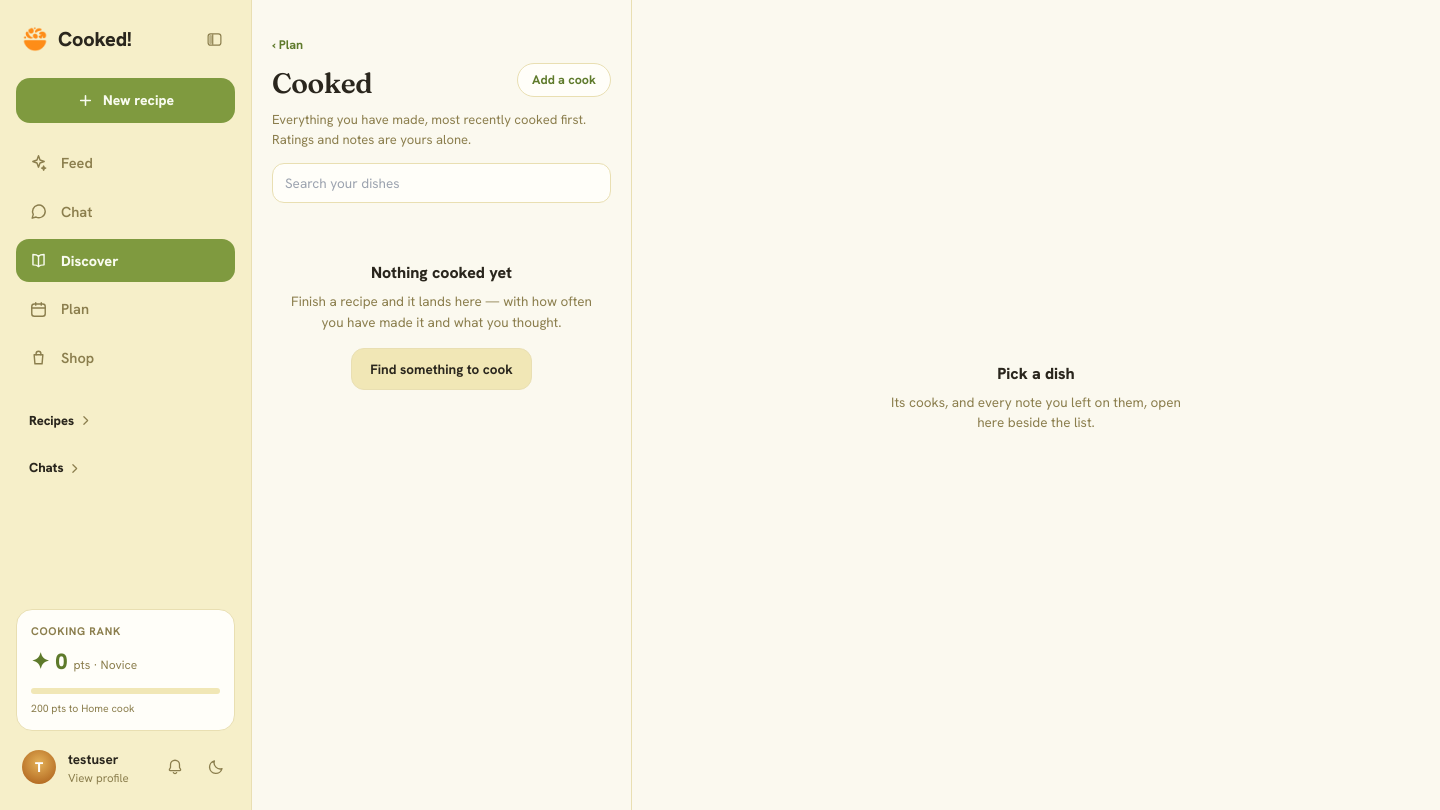
Test: Add a cook › says so afterwards, because a backdated cook may land far down the list
What coordinates should you click on to do the following:
click the button "Add a cook"
I would click on:
 (564, 80)
Its box is [517,63,611,97].
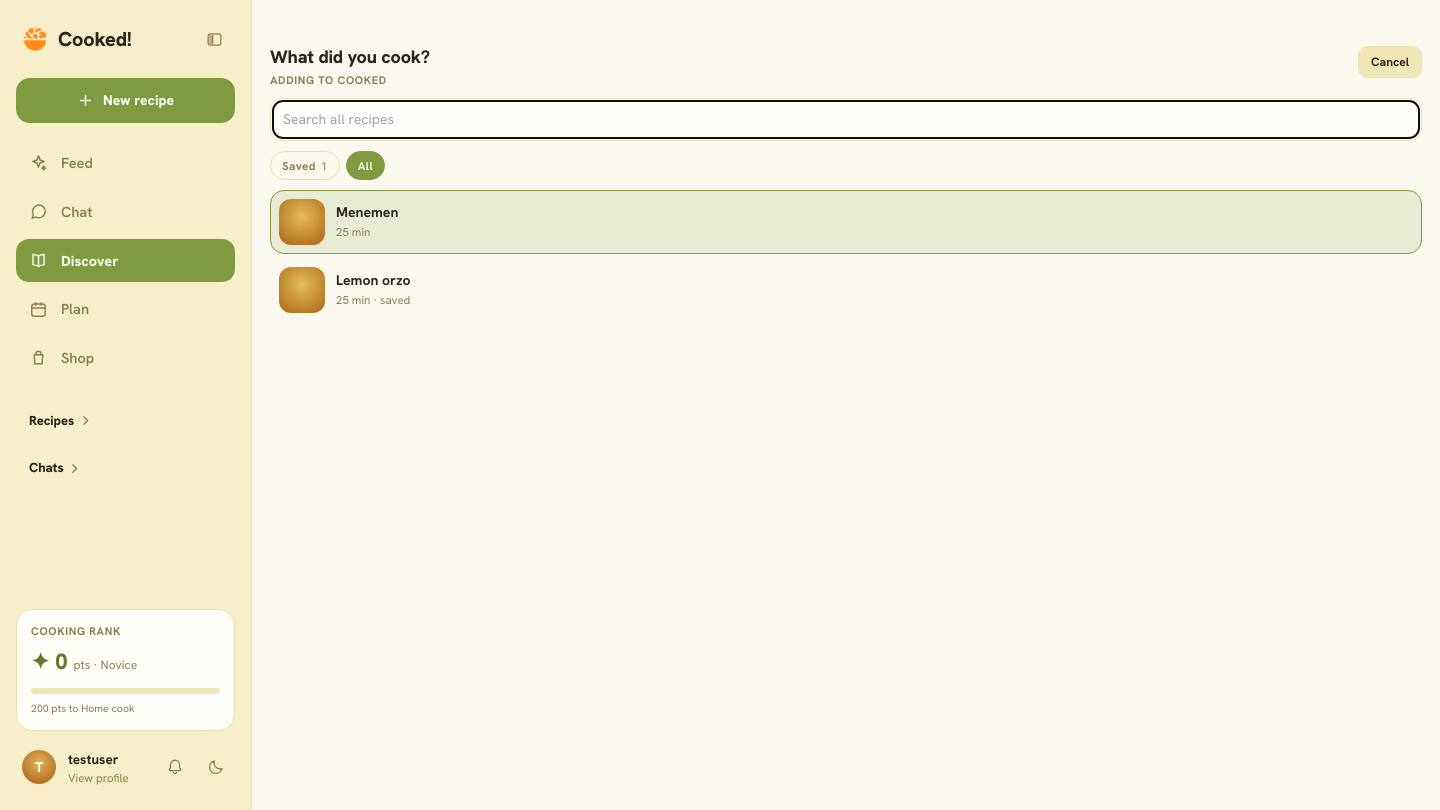
What coordinates should you click on to do the following:
click the tab "All"
I would click on:
 (365, 166)
Its box is [346,151,385,180].
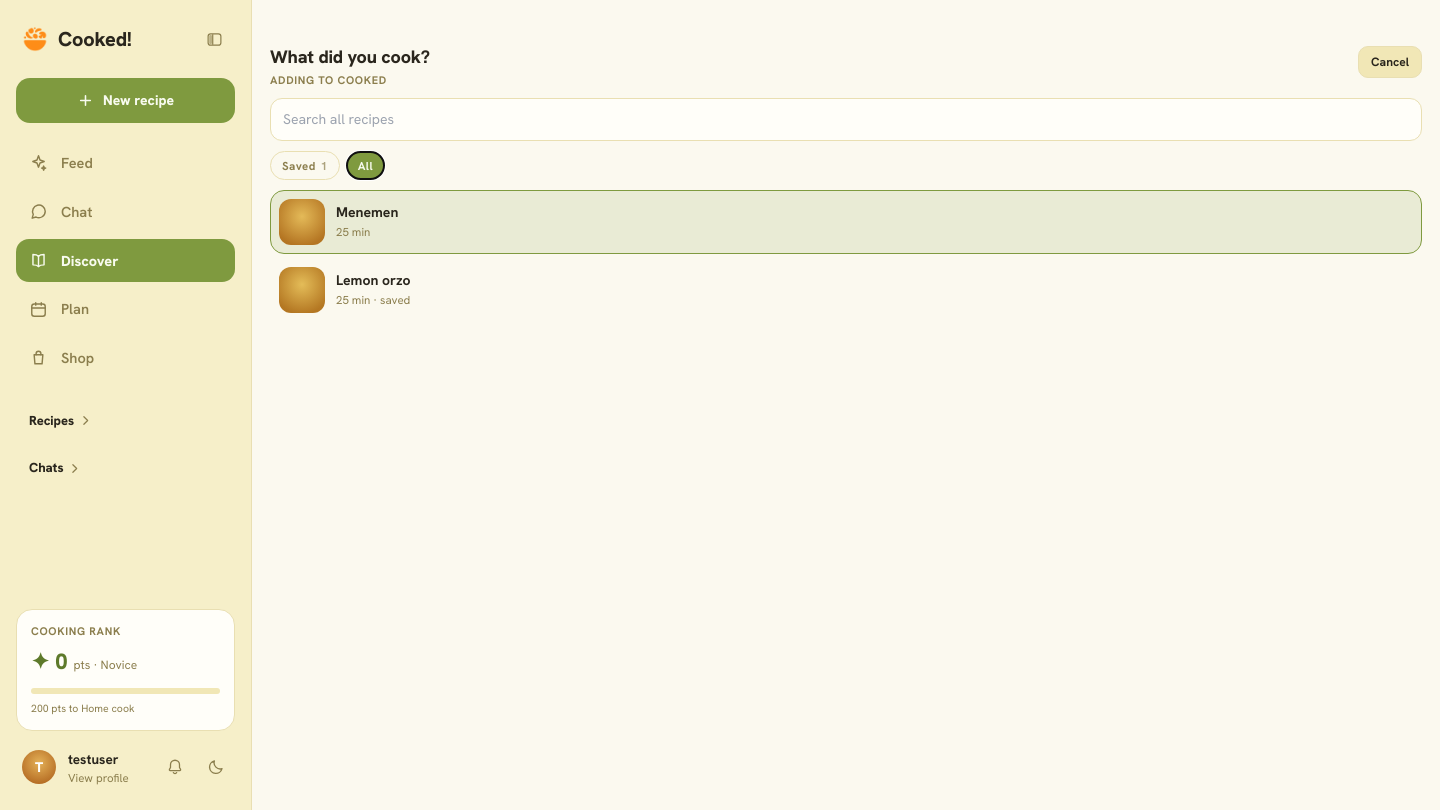
What coordinates should you click on to do the following:
click the button "Menemen 25 min"
I would click on:
 (302, 222)
Its box is [270,190,1422,254].
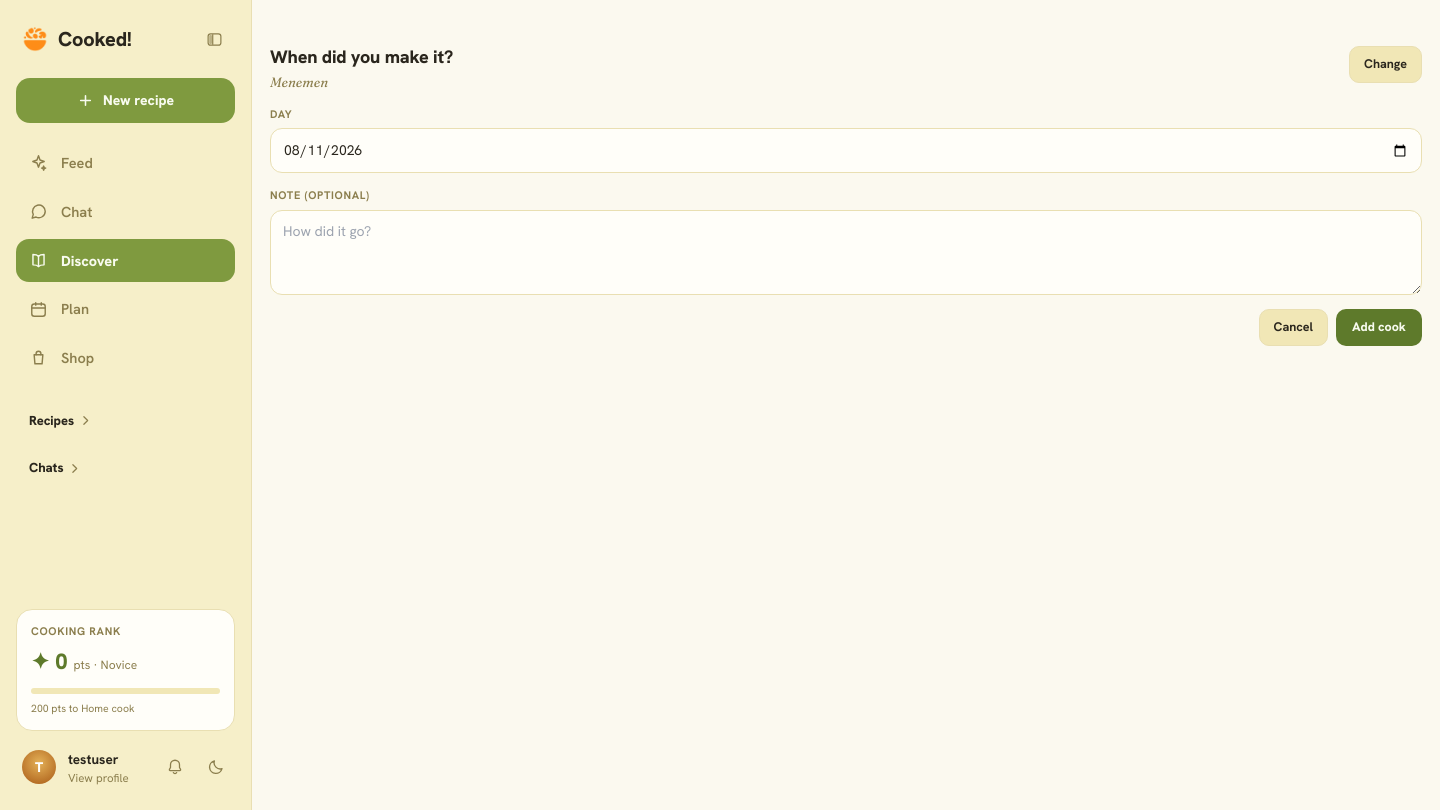
What coordinates should you click on to do the following:
click the button "Add cook"
I would click on:
 (1379, 327)
Its box is [1336,309,1422,346].
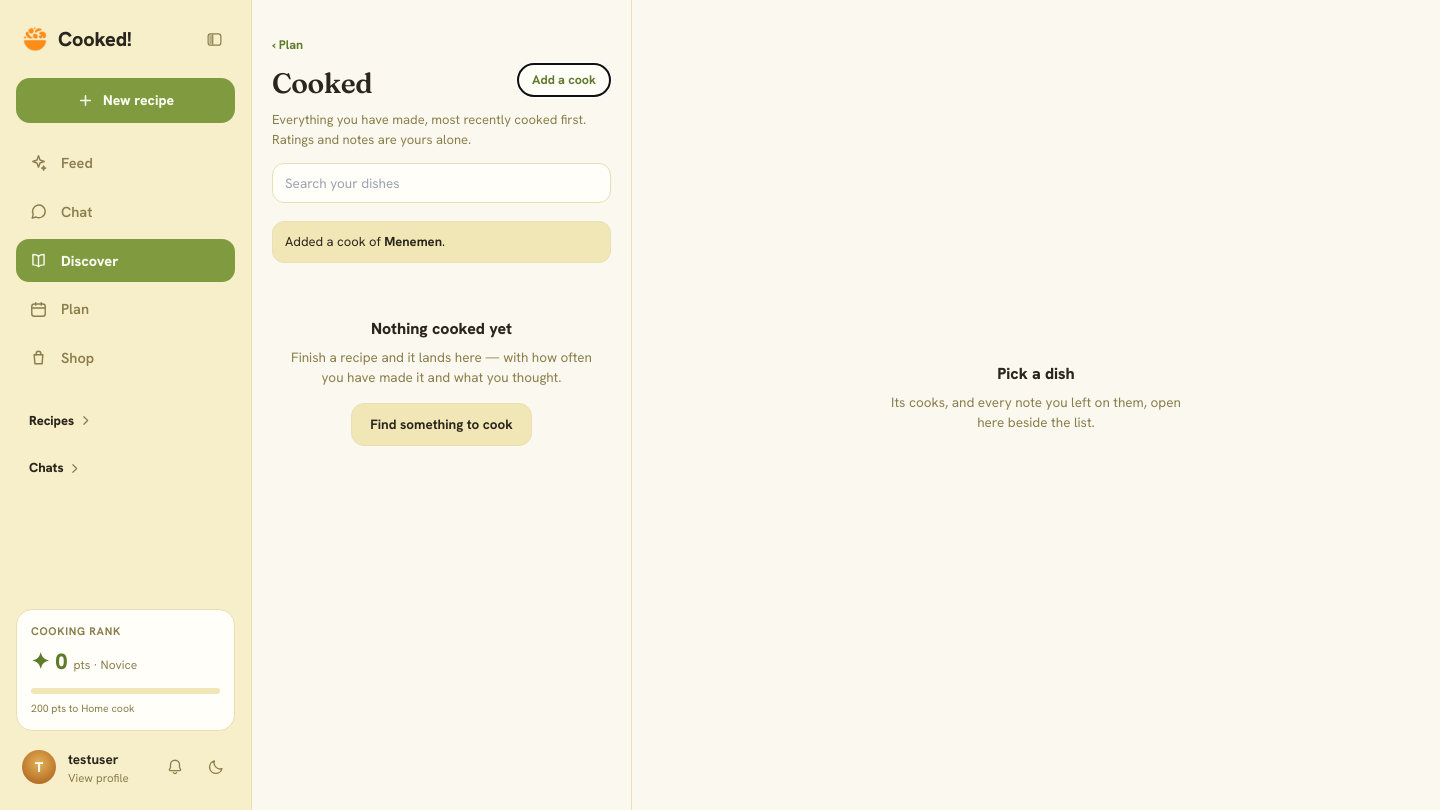
Expected: the message shows "Menemen", [384,233,442,250]
